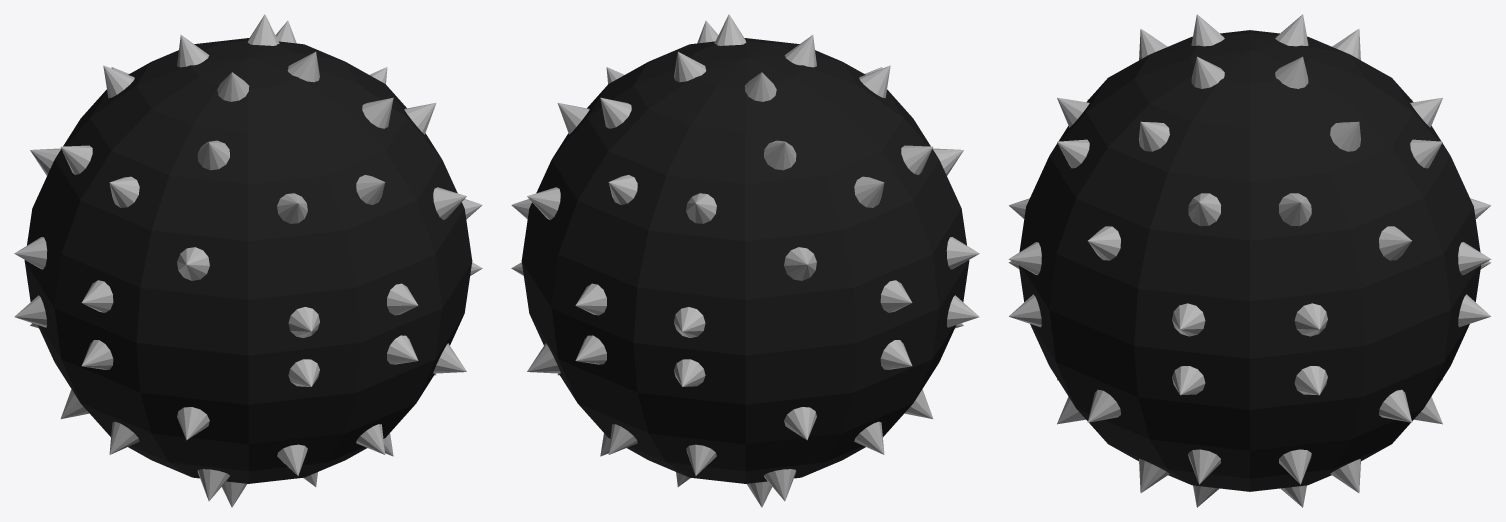
The model's file is bola.fbx.
The picture shows the model from 3 angles, left to right: view 1: azimuth 30°, elevation 25°; view 2: azimuth 150°, elevation 25°; view 3: azimuth 270°, elevation 25°; orthographic projection. The views are drawn at different scales.
Visible parts, largest first — view 1: Sphere; view 2: Sphere; view 3: Sphere.
Part boxes in pixels (left/top/right/bottom): Sphere: left=14, top=14, right=482, bottom=507; Sphere: left=511, top=14, right=979, bottom=507; Sphere: left=1008, top=14, right=1491, bottom=507.
Bounding box in the file's own units: 207 × 215 × 208.
1 material, 1 textured.
